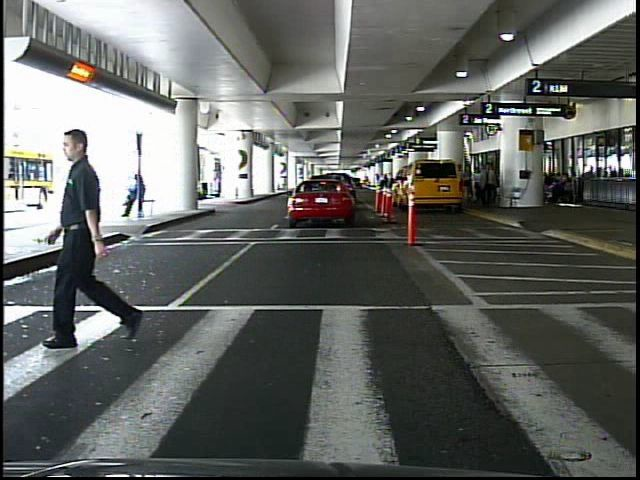person: (62, 125, 151, 349), (480, 163, 497, 209)
